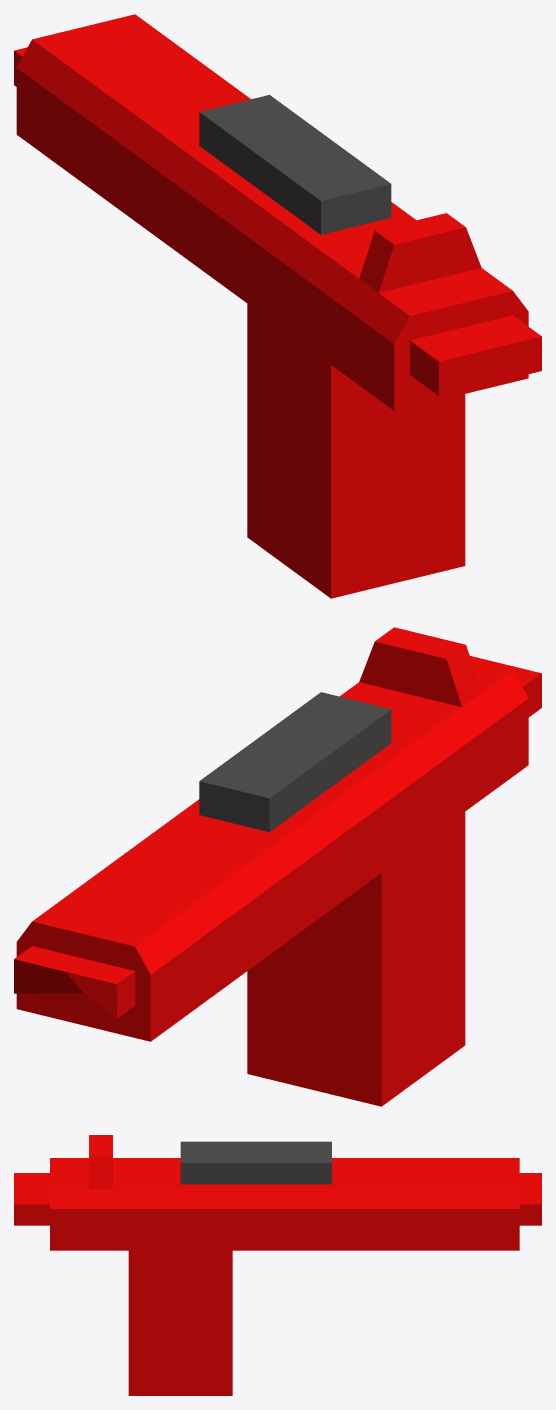
File: PlayerGun.fbx
3 views of the same model, one above another, from view 1: azimuth 30°, elevation 25°; view 2: azimuth 150°, elevation 25°; view 3: azimuth 270°, elevation 25° (orthographic). The views are drawn at different scales.
Visible parts, largest first — view 1: Gun, Block; view 2: Gun, Block; view 3: Gun, Block.
Part boxes in pixels (left/top/right/bottom): Gun: left=14, top=14, right=541, bottom=598; Block: left=199, top=95, right=391, bottom=234; Gun: left=14, top=627, right=541, bottom=1106; Block: left=199, top=692, right=391, bottom=831; Gun: left=14, top=1135, right=541, bottom=1395; Block: left=180, top=1141, right=331, bottom=1184.
Bounding box in the file's own units: 200 × 526 × 1097.
2 materials, 2 textured.
